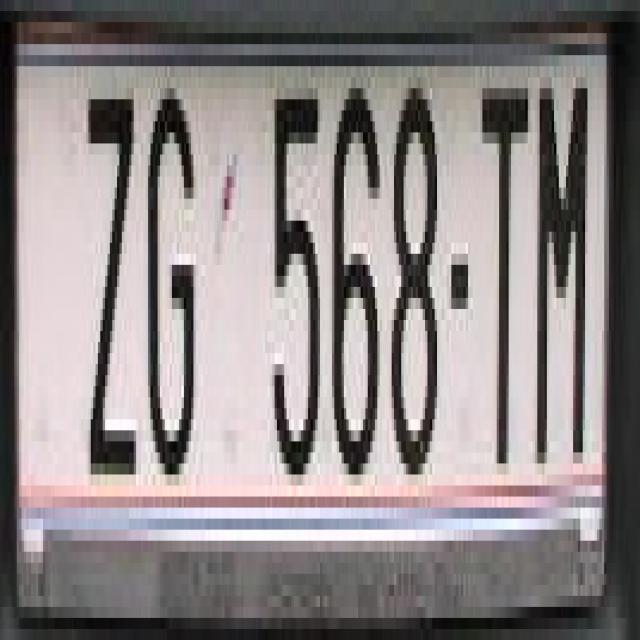5: (267, 66, 325, 464)
6: (332, 66, 380, 475)
8: (387, 66, 442, 475)
G: (146, 77, 196, 486)
M: (535, 89, 590, 464)
T: (480, 66, 533, 475)
Z: (88, 78, 138, 464)
